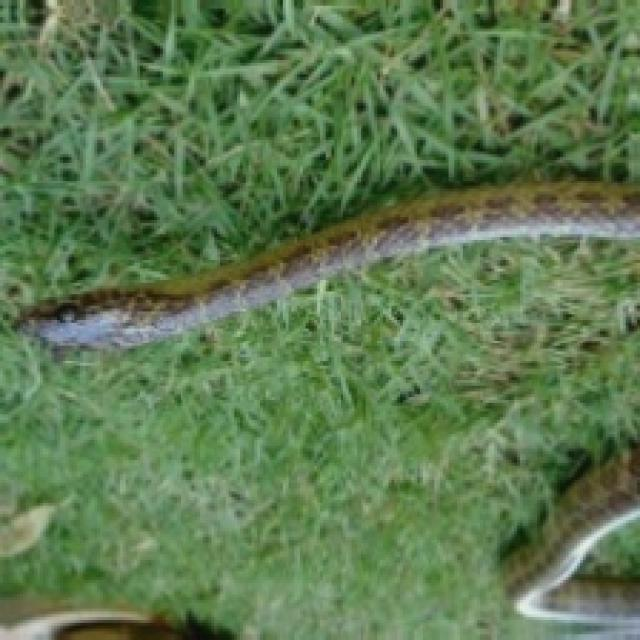mullers wolf snake: (20, 180, 637, 346), (23, 183, 637, 346)
